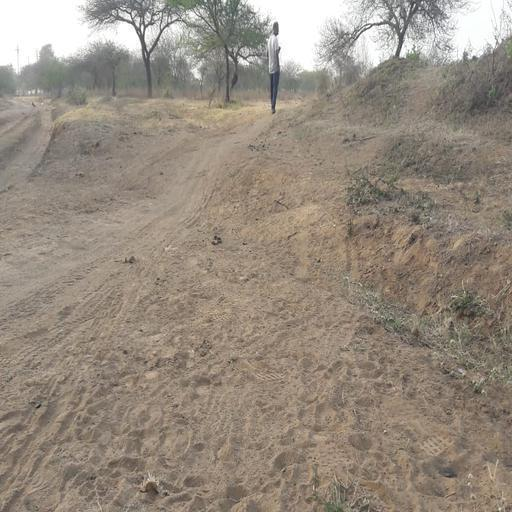vehicle_track: (0, 116, 273, 512), (0, 111, 53, 196)
